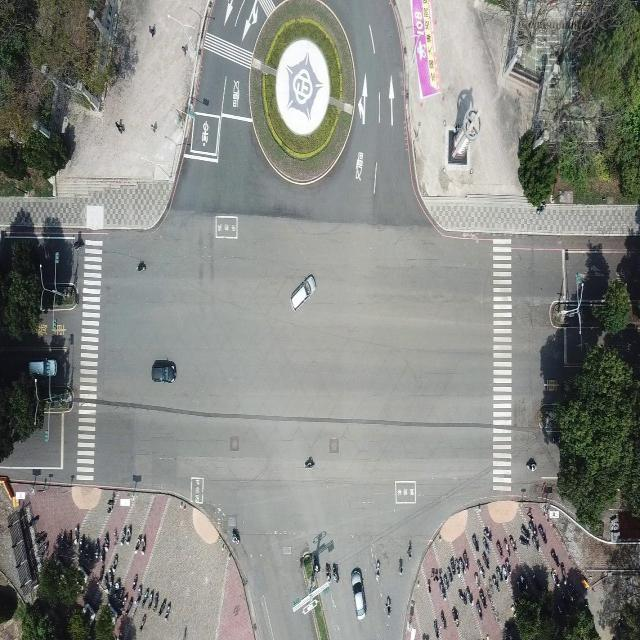bike: (299, 450, 322, 476), (520, 453, 543, 475), (134, 258, 148, 274), (231, 525, 239, 544), (385, 594, 391, 615), (406, 538, 412, 557), (375, 557, 380, 577)
car: (23, 349, 66, 378), (290, 273, 314, 312), (350, 565, 366, 618), (150, 358, 178, 383)
